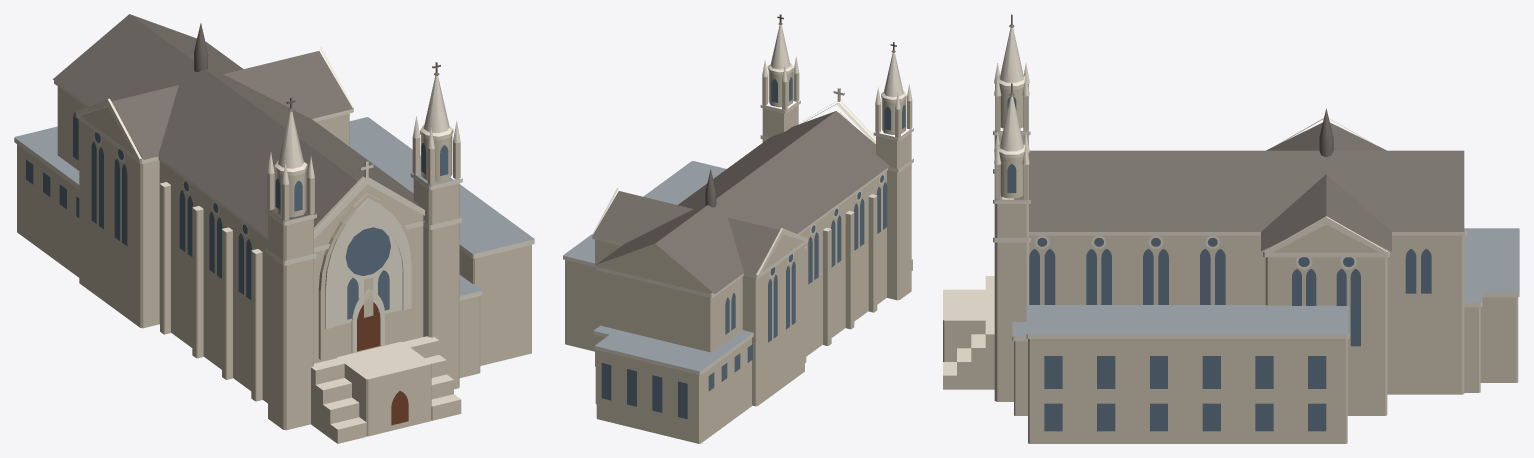
File: atl-cathedral-christ-the-king.glb
The picture shows the model from 3 angles, left to right: view 1: azimuth 30°, elevation 25°; view 2: azimuth 150°, elevation 25°; view 3: azimuth 270°, elevation 25°; orthographic projection. The views are drawn at different scales.
Parts seen in each view (by area): view 1: Cathedral of Christ the King; view 2: Cathedral of Christ the King; view 3: Cathedral of Christ the King.
Boxes of the visible parts, box(x1,y1,x2,y2) form: Cathedral of Christ the King: box(14, 14, 534, 443); Cathedral of Christ the King: box(563, 14, 913, 443); Cathedral of Christ the King: box(943, 14, 1519, 443).
Size of the model in its own units: 29.9 by 33.9 by 56.91.
